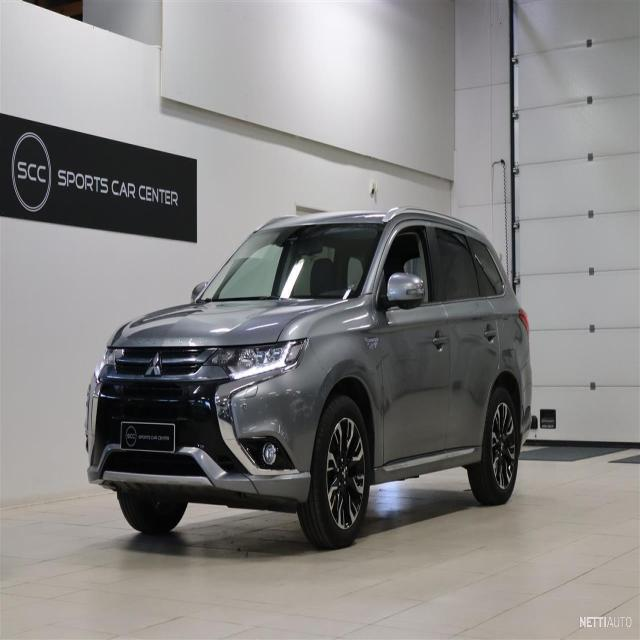light_vehicle: (84, 206, 534, 550)
